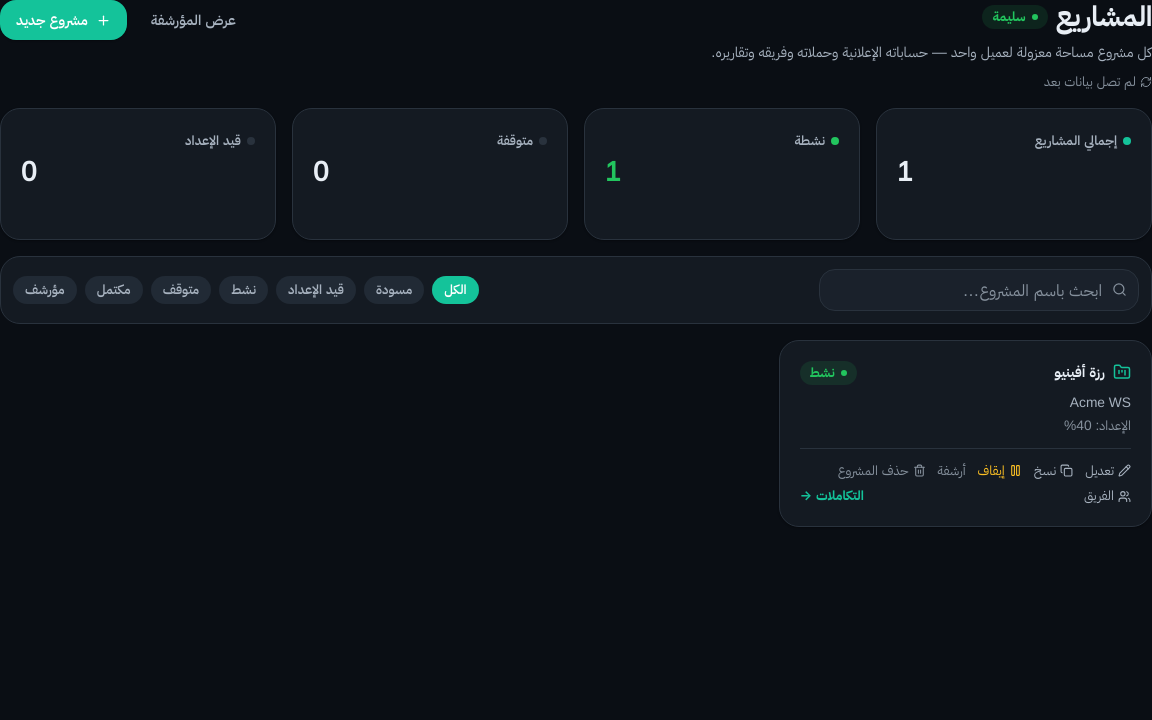
deleting a project › states what the deletion will reach, measured by the server
Click the button with test id "project-delete-p1": {"x": 882, "y": 471} [838,461,926,480]
(page scrolled)
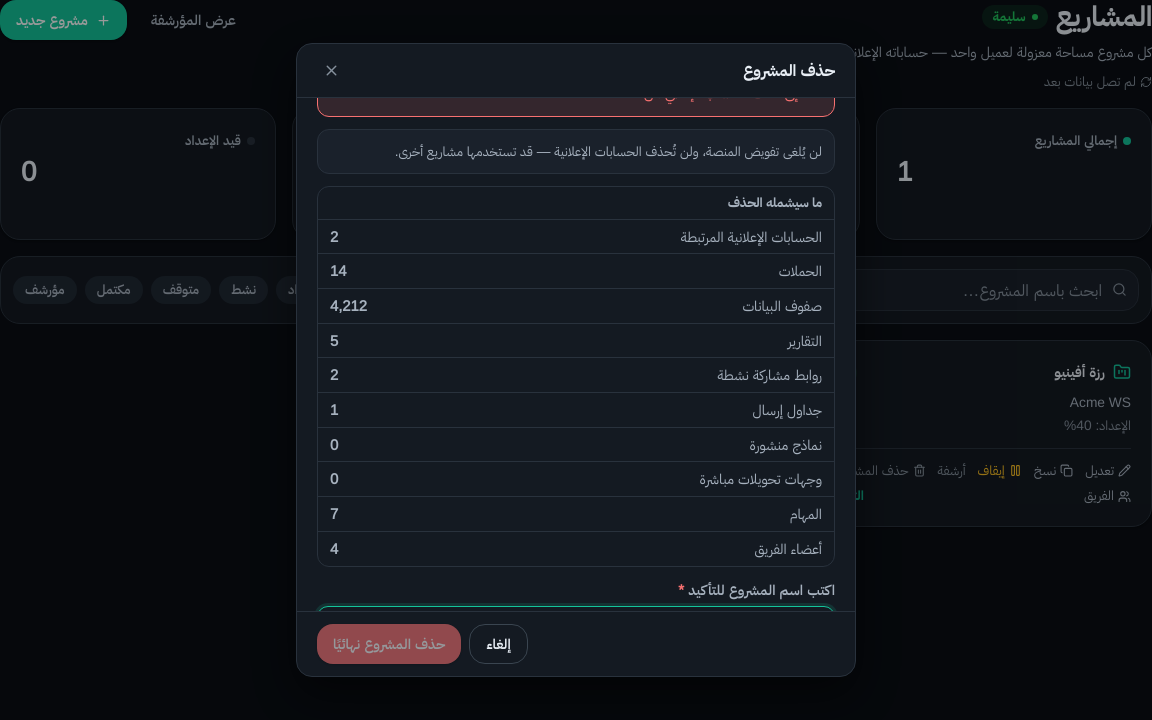
Now the element with test id "project-delete-dialog" shows "5", box [330,332,338,349]
Now the element with test id "project-delete-dialog" shows "4,212", box [330,297,367,314]
Now the element with test id "project-delete-dialog" shows "الحسابات الإعلانية", box [395,143,822,159]
